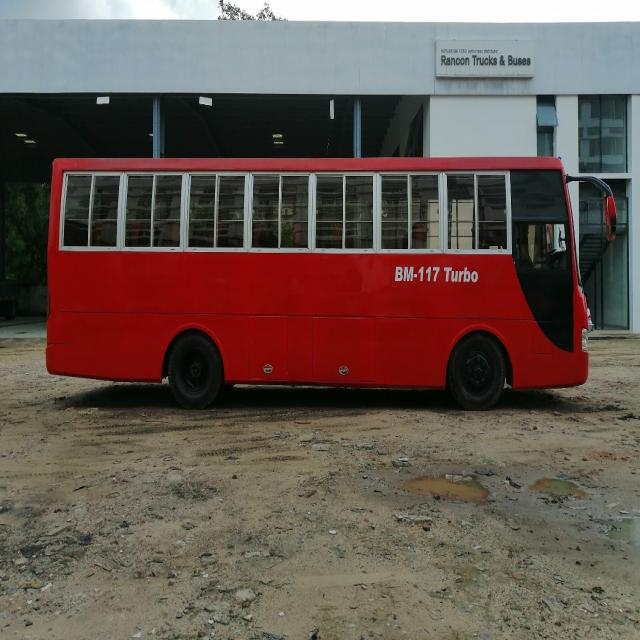bus: (12, 107, 639, 471)
